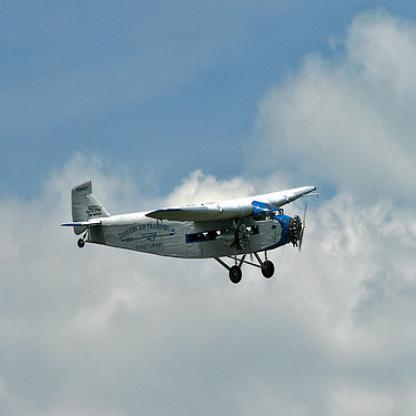aeroplane: (59, 183, 317, 284)
